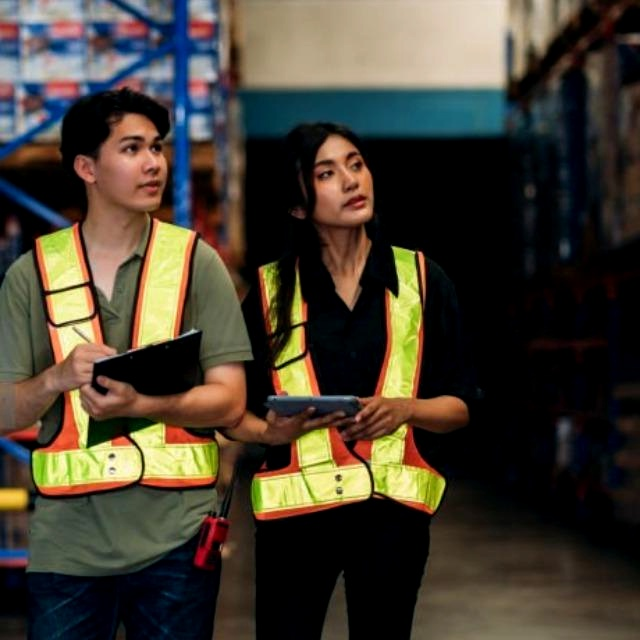Con_Chaleco: (20, 215, 220, 497), (251, 242, 444, 526)
Sin_Casco_Mascarrilla: (60, 88, 175, 209), (274, 118, 378, 229)
